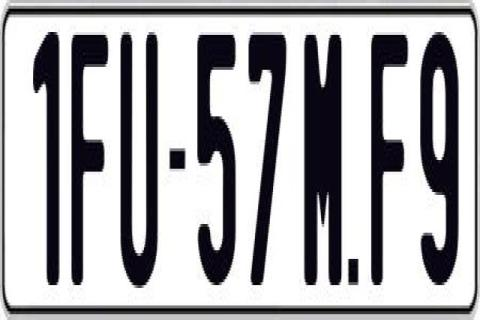0: (195, 29, 240, 279), (420, 24, 460, 282), (245, 26, 285, 282), (31, 29, 63, 285)
F: (369, 29, 412, 282), (72, 26, 110, 282)
M: (301, 32, 338, 285)
U: (118, 29, 162, 299)
